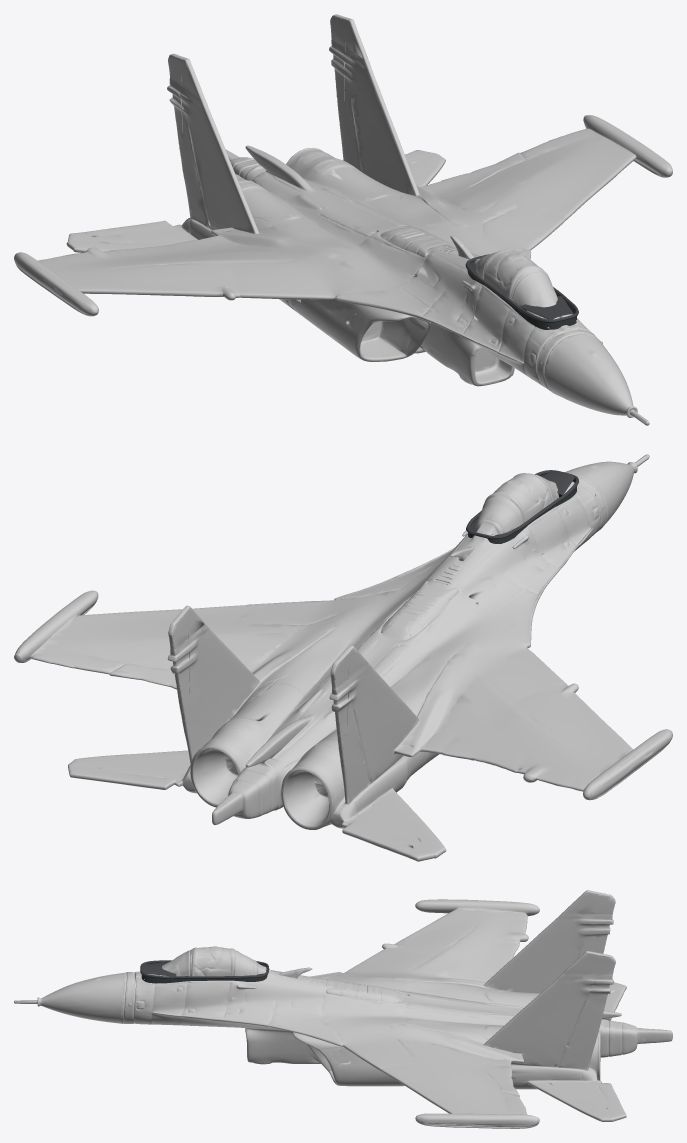
The picture shows the model from 3 angles, top to bottom: view 1: azimuth 30°, elevation 25°; view 2: azimuth 150°, elevation 25°; view 3: azimuth 270°, elevation 25°; orthographic projection. The views are drawn at different scales.
Visible parts, largest first — view 1: Su27_Body, Su27_Canopy, Su27_ElevatorR, Pit_Static, Su27_AileronL, Su27_AileronR, Su27_ElevatorL, Su27_RudderL, Su27_RudderR; view 2: Su27_Body, Su27_ElevatorR, Su27_ElevatorL, Su27_Canopy, Su27_AileronR, Su27_AileronL, Pit_Static, Su27_RudderL, Su27_RudderR; view 3: Su27_Body, Su27_Canopy, Su27_ElevatorL, Su27_AileronR, Pit_Static, Su27_AileronL, Su27_RudderL, Su27_RudderR, Su27_ElevatorR.
Part boxes in pixels (<box>): Su27_Body: <box>14,14,672,425</box>; Su27_Canopy: <box>475,249,557,307</box>; Su27_ElevatorR: <box>66,221,190,252</box>; Pit_Static: <box>465,254,578,329</box>; Su27_AileronL: <box>459,135,589,182</box>; Su27_AileronR: <box>54,243,194,268</box>; Su27_ElevatorL: <box>405,150,445,186</box>; Su27_RudderL: <box>329,24,345,106</box>; Su27_RudderR: <box>167,64,182,144</box>; Su27_Body: <box>14,454,672,833</box>; Su27_ElevatorR: <box>344,792,446,861</box>; Su27_ElevatorL: <box>68,750,190,789</box>; Su27_Canopy: <box>476,473,558,535</box>; Su27_AileronR: <box>458,735,589,787</box>; Su27_AileronL: <box>54,642,176,689</box>; Pit_Static: <box>466,470,578,543</box>; Su27_RudderL: <box>167,626,190,702</box>; Su27_RudderR: <box>329,667,349,741</box>; Su27_Body: <box>14,890,672,1128</box>; Su27_Canopy: <box>162,946,266,976</box>; Su27_ElevatorL: <box>532,1083,626,1121</box>; Su27_AileronR: <box>481,917,527,967</box>; Pit_Static: <box>140,960,269,983</box>; Su27_AileronL: <box>481,1070,526,1112</box>; Su27_RudderL: <box>591,964,614,1018</box>; Su27_RudderR: <box>594,904,614,953</box>; Su27_ElevatorR: <box>604,982,626,1011</box>.
Size of the model in its own units: 14.7 by 4.62 by 18.79.
